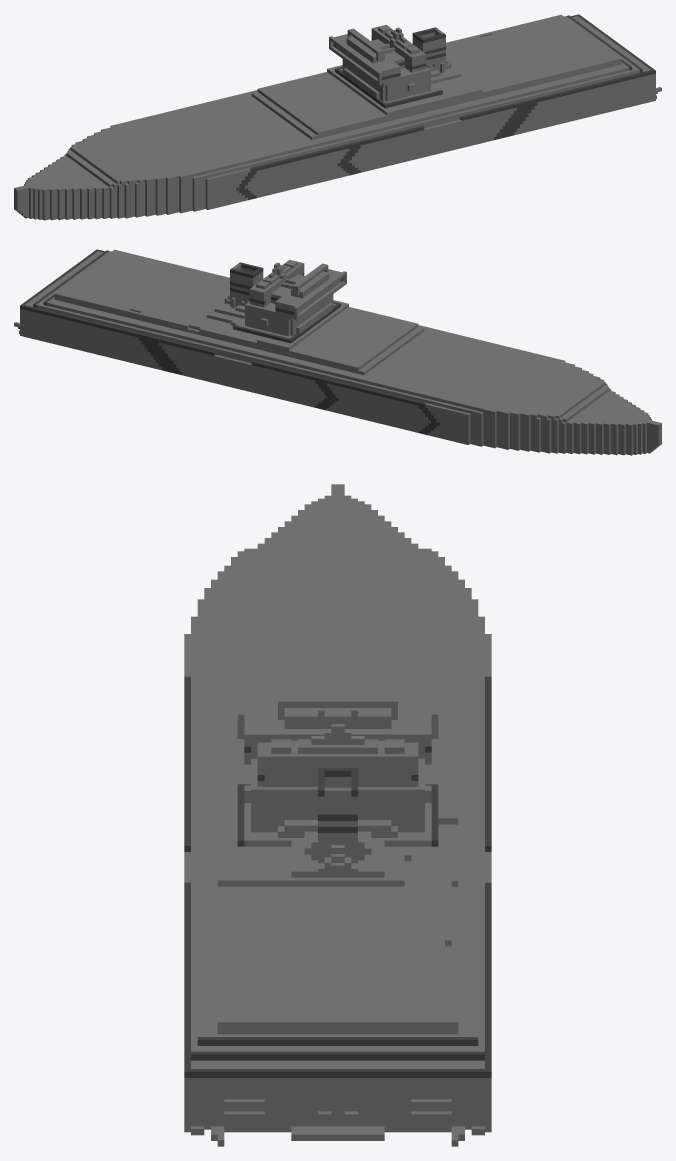
The model's file is boatsimple.vox.obj.
3 views of the same model, one above another, from view 1: azimuth 30°, elevation 25°; view 2: azimuth 150°, elevation 25°; view 3: azimuth 270°, elevation 25° (orthographic). The views are drawn at different scales.
Bounding box in the file's own units: 21.3 × 3.2 × 4.6.
1 material, 1 textured.
